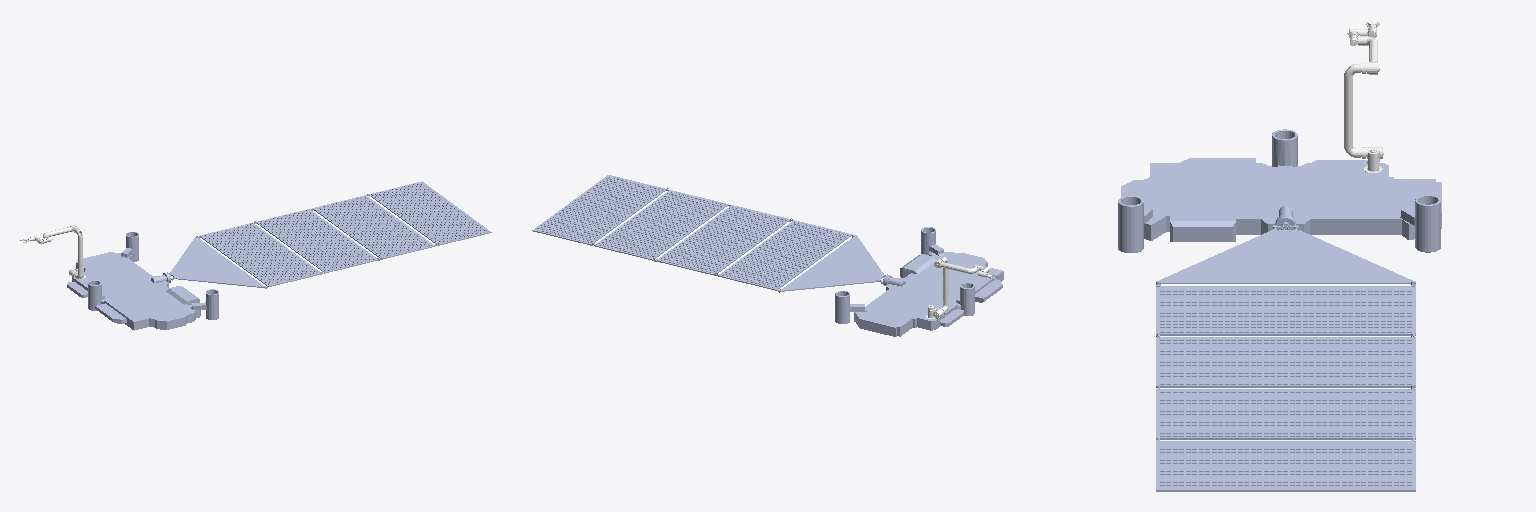
robot.urdf — starlink_combine_qf_space_manipulator:
<?xml version="1.0" ?>
<robot name="starlink_combine_qf_space_manipulator">
  <link name="starlink_base_star_link">
    <inertial>
      <origin xyz="0.064043 0.049818 0.075117" rpy="0 0 0"/>
      <mass value="365.27"/>
      <inertia ixx="166.05" ixy="0.9609" ixz="-0.9195" iyy="43.737" iyz="0.18316" izz="207.92"/>
    </inertial>
    <visual>
      <origin xyz="0 0 0" rpy="0 0 0"/>
      <geometry>
        <mesh filename="./meshes/base_star_link.STL"/>
      </geometry>
      <material name="">
        <color rgba="0.79216 0.81961 0.93333 1"/>
        <texture filename="./textures/1.png"/>
      </material>
    </visual>
    <collision>
      <origin xyz="0 0 0" rpy="0 0 0"/>
      <geometry>
        <mesh filename="./meshes/base_star_link.STL"/>
      </geometry>
    </collision>
  </link>
  <link name="starlink_panel_Link">
    <inertial>
      <origin xyz="0.18387 4.5116E-05 0.0089121" rpy="0 0 0"/>
      <mass value="146.07"/>
      <inertia ixx="45.09" ixy="7.5802E-12" ixz="-2.6455E-06" iyy="9.2979" iyz="-4.89E-13" izz="54.377"/>
    </inertial>
    <visual>
      <origin xyz="0 0 0" rpy="0 0 0"/>
      <geometry>
        <mesh filename="./meshes/panel_Link.STL"/>
      </geometry>
      <material name="">
        <color rgba="0.79216 0.81961 0.93333 1"/>
        <texture filename="./textures/5.png"/>
      </material>
    </visual>
    <collision>
      <origin xyz="0 0 0" rpy="0 0 0"/>
      <geometry>
        <mesh filename="./meshes/panel_Link.STL"/>
      </geometry>
    </collision>
  </link>
  <joint name="starlink_panel" type="fixed">
    <origin xyz="3.1501 0.12613 0.143" rpy="0 0 0"/>
    <parent link="starlink_base_star_link"/>
    <child link="starlink_panel_Link"/>
    <axis xyz="0 0 0"/>
  </joint>
  <link name="qf_space_manipulator_base_link">
    <inertial>
      <origin xyz="-8.3266726846887e-17 4.262048797221138e-08 0.05547449256466818" rpy="0 0 0"/>
      <mass value="1.8705992689783575"/>
      <inertia ixx="0.007467134758127188" ixy="3.962441480050754e-08" ixz="-3.9964728740718214e-18" iyy="0.007467356800846642" iyz="1.2124935629597831e-10" izz="0.008044522017158898"/>
    </inertial>
    <visual>
      <origin xyz="0 0 0" rpy="0 0 0"/>
      <geometry>
        <mesh filename="./meshes/base_link.STL" scale="0.6 0.6 0.6"/>
      </geometry>
      <material name="">
        <color rgba="1 1 1 1"/>
      </material>
    </visual>
    <collision>
      <origin xyz="0 0 0" rpy="0 0 0"/>
      <geometry>
        <mesh filename="./meshes/base_link.STL" scale="0.6 0.6 0.6"/>
      </geometry>
    </collision>
  </link>
  <link name="qf_space_manipulator_Shoulder_link_1">
    <inertial>
      <origin xyz="0.0001873877406636024 -0.0560957668949283 0.07324881240419939" rpy="0 0 0"/>
      <mass value="1.1984038207793077"/>
      <inertia ixx="0.004269767839534582" ixy="-0.0002707195846416558" ixz="5.4154184705179955e-06" iyy="0.0025747153069159284" iyz="4.405349010800451e-05" izz="0.0034248187446314707"/>
    </inertial>
    <visual>
      <origin xyz="0 0 0" rpy="0 0 0"/>
      <geometry>
        <mesh filename="./meshes/Shoulder_link_1.STL" scale="0.6 0.6 0.6"/>
      </geometry>
      <material name="">
        <color rgba="1 1 1 1"/>
      </material>
    </visual>
    <collision>
      <origin xyz="0 0 0" rpy="0 0 0"/>
      <geometry>
        <mesh filename="./meshes/Shoulder_link_1.STL" scale="0.6 0.6 0.6"/>
      </geometry>
    </collision>
  </link>
  <joint name="qf_space_manipulator_Shoulder_link_1_yaw" type="revolute">
    <origin xyz="0.0 0.0 0.138" rpy="0 0 0"/>
    <parent link="qf_space_manipulator_base_link"/>
    <child link="qf_space_manipulator_Shoulder_link_1"/>
    <axis xyz="0 0 -1"/>
    <limit lower="0" upper="0" effort="0" velocity="0"/>
  </joint>
  <link name="qf_space_manipulator_Upper_arm_Link_1">
    <inertial>
      <origin xyz="0.002441043273464352 0.2205905443133988 0.40773711417445796" rpy="0 0 0"/>
      <mass value="1.237014435999411"/>
      <inertia ixx="0.03894557489608943" ixy="-2.612050638302112e-07" ixz="-6.591223634505734e-07" iyy="0.03140206679365642" iyz="-0.015797715902448047" izz="0.010750455290075659"/>
    </inertial>
    <visual>
      <origin xyz="0 0 0" rpy="0 0 0"/>
      <geometry>
        <mesh filename="./meshes/Upper_arm_Link_1.STL" scale="0.6 0.6 0.6"/>
      </geometry>
      <material name="">
        <color rgba="1 1 1 1"/>
      </material>
    </visual>
    <collision>
      <origin xyz="0 0 0" rpy="0 0 0"/>
      <geometry>
        <mesh filename="./meshes/Upper_arm_Link_1.STL" scale="0.6 0.6 0.6"/>
      </geometry>
    </collision>
  </link>
  <joint name="qf_space_manipulator_Upper_arm_Link_1_roll" type="revolute">
    <origin xyz="0.0939119999999994 -0.1199999999999106 0.07800000000001318" rpy="0.49087385 0 0"/>
    <parent link="qf_space_manipulator_Shoulder_link_1"/>
    <child link="qf_space_manipulator_Upper_arm_Link_1"/>
    <axis xyz="1 0 0"/>
    <limit lower="0" upper="0" effort="0" velocity="0"/>
  </joint>
  <link name="qf_space_manipulator_Mid_arm_Link_1">
    <inertial>
      <origin xyz="-0.07202896226904959 -0.23462048075149497 0.20232934585705917" rpy="0 0 0"/>
      <mass value="4.394192754343932"/>
      <inertia ixx="0.1059897314774137" ixy="0.00843132043090879" ixz="-0.007270962772476756" iyy="0.05055564321673254" iyz="0.05098470471532277" izz="0.06570919240187209"/>
    </inertial>
    <visual>
      <origin xyz="0 0 0" rpy="0 0 0"/>
      <geometry>
        <mesh filename="./meshes/Mid_arm_Link_1.STL" scale="0.6 0.6 0.6"/>
      </geometry>
      <material name="">
        <color rgba="1 1 1 1"/>
      </material>
    </visual>
    <collision>
      <origin xyz="0 0 0" rpy="0 0 0"/>
      <geometry>
        <mesh filename="./meshes/Mid_arm_Link_1.STL" scale="0.6 0.6 0.6"/>
      </geometry>
    </collision>
  </link>
  <joint name="qf_space_manipulator_Mid_arm_Link_1_roll" type="revolute">
    <origin xyz="-0.0054119999999258095 0.3426103217692296 0.63325995246783" rpy="0.22089323 0 0"/>
    <parent link="qf_space_manipulator_Upper_arm_Link_1"/>
    <child link="qf_space_manipulator_Mid_arm_Link_1"/>
    <axis xyz="-1 0 0"/>
    <limit lower="0" upper="0" effort="0" velocity="0"/>
  </joint>
  <link name="qf_space_manipulator_Upper_wrist_Link_1">
    <inertial>
      <origin xyz="-0.015986247367529217 -0.0001364242591028742 0.01337195517729282" rpy="0 0 0"/>
      <mass value="0.30509485903504074"/>
      <inertia ixx="0.0003071178350390054" ixy="8.701728806499195e-08" ixz="1.7717534066814574e-07" iyy="0.0003080149872611991" iyz="5.971535332933144e-07" izz="0.0001548467555063545"/>
    </inertial>
    <visual>
      <origin xyz="0 0 0" rpy="0 0 0"/>
      <geometry>
        <mesh filename="./meshes/Upper_wrist_Link_1.STL" scale="0.6 0.6 0.6"/>
      </geometry>
      <material name="">
        <color rgba="1 1 1 1"/>
      </material>
    </visual>
    <collision>
      <origin xyz="0 0 0" rpy="0 0 0"/>
      <geometry>
        <mesh filename="./meshes/Upper_wrist_Link_1.STL" scale="0.6 0.6 0.6"/>
      </geometry>
    </collision>
  </link>
  <joint name="qf_space_manipulator_Upper_wrist_Link_1_yaw" type="revolute">
    <origin xyz="0.0645000000001698 -0.4422422903588208 0.38137472592349375" rpy="0.859166812179351 0 0"/>
    <parent link="qf_space_manipulator_Mid_arm_Link_1"/>
    <child link="qf_space_manipulator_Upper_wrist_Link_1"/>
    <axis xyz="0 0 1"/>
    <limit lower="0" upper="0" effort="0" velocity="0"/>
  </joint>
  <link name="qf_space_manipulator_Upper_wrist_Link_2">
    <inertial>
      <origin xyz="-0.01337195520990408 -0.015986247386804757 0.00013642433957543578" rpy="0 0 0"/>
      <mass value="0.3050948590124234"/>
      <inertia ixx="0.00015484671165087236" ixy="-1.7717465685183088e-07" ixz="5.971791414905609e-07" iyy="0.0003071178219615627" iyz="-8.701952476591415e-08" izz="0.0003080150148215764"/>
    </inertial>
    <visual>
      <origin xyz="0 0 0" rpy="0 0 0"/>
      <geometry>
        <mesh filename="./meshes/Upper_wrist_Link_2.STL" scale="0.6 0.6 0.6"/>
      </geometry>
      <material name="">
        <color rgba="1 1 1 1"/>
      </material>
    </visual>
    <collision>
      <origin xyz="0 0 0" rpy="0 0 0"/>
      <geometry>
        <mesh filename="./meshes/Upper_wrist_Link_2.STL" scale="0.6 0.6 0.6"/>
      </geometry>
    </collision>
  </link>
  <joint name="qf_space_manipulator_Upper_wrist_Link_2_roll" type="revolute">
    <origin xyz="-0.08760000000024659 0.0 0.058200000000027535" rpy="-1.5463902 0 0"/>
    <parent link="qf_space_manipulator_Upper_wrist_Link_1"/>
    <child link="qf_space_manipulator_Upper_wrist_Link_2"/>
    <axis xyz="1 0 0"/>
    <limit lower="0" upper="0" effort="0" velocity="0"/>
  </joint>
  <link name="qf_space_manipulator_2F-Body_Link">
    <inertial>
      <origin xyz="-7.3535263516388996e-06 0.013015999965250678 -5.89123300809291e-07" rpy="0 0 0"/>
      <mass value="0.08627345743213395"/>
      <inertia ixx="9.82059492816081e-05" ixy="-1.1571679385565587e-08" ixz="-6.268185855415613e-10" iyy="1.6259548230766846e-05" iyz="5.674971706835835e-09" izz="9.630320869146766e-05"/>
    </inertial>
    <visual>
      <origin xyz="0 0 0" rpy="0 0 0"/>
      <geometry>
        <mesh filename="./meshes/2F-Body_Link.STL" scale="0.6 0.6 0.6"/>
      </geometry>
      <material name="">
        <color rgba="1 1 1 1"/>
      </material>
    </visual>
    <collision>
      <origin xyz="0 0 0" rpy="0 0 0"/>
      <geometry>
        <mesh filename="./meshes/2F-Body_Link.STL" scale="0.6 0.6 0.6"/>
      </geometry>
    </collision>
  </link>
  <joint name="qf_space_manipulator_2F-Body_Link_pitch" type="revolute">
    <origin xyz="-0.05819999999999988 -0.1008 0.0" rpy="0 1.5708 0"/>
    <parent link="qf_space_manipulator_Upper_wrist_Link_2"/>
    <child link="qf_space_manipulator_2F-Body_Link"/>
    <axis xyz="0 -1 0"/>
    <limit lower="0" upper="0" effort="0" velocity="0"/>
  </joint>
  <link name="qf_space_manipulator_Finger1_2_Link">
    <inertial>
      <origin xyz="-0.002928886837678722 -0.02080036002662166 0.02237336915320068" rpy="0 0 0"/>
      <mass value="0.006898141202937839"/>
      <inertia ixx="1.563644237748095e-06" ixy="2.4774461286736103e-10" ixz="-5.030921466311523e-11" iyy="3.2988588902804284e-07" iyz="3.9291550189599943e-07" izz="1.5499063827923138e-06"/>
    </inertial>
    <visual>
      <origin xyz="0 0 0" rpy="0 0 0"/>
      <geometry>
        <mesh filename="./meshes/Finger1_2_Link.STL" scale="0.6 0.6 0.6"/>
      </geometry>
      <material name="">
        <color rgba="1 1 1 1"/>
      </material>
    </visual>
    <collision>
      <origin xyz="0 0 0" rpy="0 0 0"/>
      <geometry>
        <mesh filename="./meshes/Finger1_2_Link.STL" scale="0.6 0.6 0.6"/>
      </geometry>
    </collision>
  </link>
  <joint name="qf_space_manipulator_Finger1_2_Link_roll" type="revolute">
    <origin xyz="0.00282 -0.0327978 0.018360599999999998" rpy="0 0 0"/>
    <parent link="qf_space_manipulator_2F-Body_Link"/>
    <child link="qf_space_manipulator_Finger1_2_Link"/>
    <axis xyz="-1 0 0"/>
    <limit lower="0" upper="0" effort="0" velocity="0"/>
    <mimic joint="qf_space_manipulator_Finger3_2_Link_roll" multiplier="-1" offset="0"/>
  </joint>
  <link name="qf_space_manipulator_Finger3_2_Link">
    <inertial>
      <origin xyz="-0.006719990302461299 -0.02760730931189286 0.01604085321845838" rpy="0 0 0"/>
      <mass value="0.005448926166982977"/>
      <inertia ixx="1.3070381003854666e-06" ixy="1.7706249344666417e-12" ixz="-9.764829633015027e-13" iyy="5.277395506227525e-07" iyz="5.471138879516409e-07" izz="1.1542277528899326e-06"/>
    </inertial>
    <visual>
      <origin xyz="0 0 0" rpy="0 0 0"/>
      <geometry>
        <mesh filename="./meshes/Finger3_2_Link.STL" scale="0.6 0.6 0.6"/>
      </geometry>
      <material name="">
        <color rgba="1 1 1 1"/>
      </material>
    </visual>
    <collision>
      <origin xyz="0 0 0" rpy="0 0 0"/>
      <geometry>
        <mesh filename="./meshes/Finger3_2_Link.STL" scale="0.6 0.6 0.6"/>
      </geometry>
    </collision>
  </link>
  <joint name="qf_space_manipulator_Finger3_2_Link_roll" type="revolute">
    <origin xyz="0.006599999999999999 -0.0367068 0.007619999999999999" rpy="0 0 0"/>
    <parent link="qf_space_manipulator_2F-Body_Link"/>
    <child link="qf_space_manipulator_Finger3_2_Link"/>
    <axis xyz="1 0 0"/>
    <limit lower="0" upper="0" effort="0" velocity="0"/>
  </joint>
  <link name="qf_space_manipulator_Finger4_2_Link">
    <inertial>
      <origin xyz="-0.004860000011714543 0.001088861214170976 0.0050806473009610735" rpy="0 0 0"/>
      <mass value="0.001559431360890557"/>
      <inertia ixx="5.088652336904829e-08" ixy="-9.495334977451271e-17" ixz="-5.152565495562654e-14" iyy="5.037492533898669e-08" iyz="-1.19782087612523e-08" izz="3.276964262183369e-08"/>
    </inertial>
    <visual>
      <origin xyz="0 0 0" rpy="0 0 0"/>
      <geometry>
        <mesh filename="./meshes/Finger4_2_Link.STL" scale="0.6 0.6 0.6"/>
      </geometry>
      <material name="">
        <color rgba="1 1 1 1"/>
      </material>
    </visual>
    <collision>
      <origin xyz="0 0 0" rpy="0 0 0"/>
      <geometry>
        <mesh filename="./meshes/Finger4_2_Link.STL" scale="0.6 0.6 0.6"/>
      </geometry>
    </collision>
  </link>
  <joint name="qf_space_manipulator_Finger4_2_Link_roll" type="revolute">
    <origin xyz="-0.0018599999999999999 -0.051864 0.030168599999999997" rpy="0 0 0"/>
    <parent link="qf_space_manipulator_Finger3_2_Link"/>
    <child link="qf_space_manipulator_Finger4_2_Link"/>
    <axis xyz="1 0 0"/>
    <limit lower="0" upper="0" effort="0" velocity="0"/>
    <mimic joint="qf_space_manipulator_Finger3_2_Link_roll" multiplier="-1" offset="0"/>
  </joint>
  <link name="qf_space_manipulator_Finger3_1_Link">
    <inertial>
      <origin xyz="-0.006599990028364439 -0.02769782282108232 -0.015884050448455138" rpy="0 0 0"/>
      <mass value="0.005448925989361684"/>
      <inertia ixx="1.3070380048485743e-06" ixy="1.7428874498843821e-12" ixz="1.052335201981121e-12" iyy="5.236277583286537e-07" iyz="-5.447390830965181e-07" izz="1.158339441378255e-06"/>
    </inertial>
    <visual>
      <origin xyz="0 0 0" rpy="0 0 0"/>
      <geometry>
        <mesh filename="./meshes/Finger3_1_Link.STL" scale="0.6 0.6 0.6"/>
      </geometry>
      <material name="">
        <color rgba="1 1 1 1"/>
      </material>
    </visual>
    <collision>
      <origin xyz="0 0 0" rpy="0 0 0"/>
      <geometry>
        <mesh filename="./meshes/Finger3_1_Link.STL" scale="0.6 0.6 0.6"/>
      </geometry>
    </collision>
  </link>
  <joint name="qf_space_manipulator_Finger3_1_Link_roll" type="revolute">
    <origin xyz="0.006599999999999999 -0.0367068 -0.007619999999999999" rpy="0 0 0"/>
    <parent link="qf_space_manipulator_2F-Body_Link"/>
    <child link="qf_space_manipulator_Finger3_1_Link"/>
    <axis xyz="1 0 0"/>
    <limit lower="0" upper="0" effort="0" velocity="0"/>
    <mimic joint="qf_space_manipulator_Finger3_2_Link_roll" multiplier="-1" offset="0"/>
  </joint>
  <link name="qf_space_manipulator_Finger4_1_Link">
    <inertial>
      <origin xyz="-0.004859999988285402 0.001088861214171108 -0.005080647300960936" rpy="0 0 0"/>
      <mass value="0.0015594313608905915"/>
      <inertia ixx="5.088652336904923e-08" ixy="9.495309359783266e-17" ixz="-5.1525655127137653e-14" iyy="5.03749253389877e-08" iyz="1.1978208761252142e-08" izz="3.2769642621834614e-08"/>
    </inertial>
    <visual>
      <origin xyz="0 0 0" rpy="0 0 0"/>
      <geometry>
        <mesh filename="./meshes/Finger4_1_Link.STL" scale="0.6 0.6 0.6"/>
      </geometry>
      <material name="">
        <color rgba="1 1 1 1"/>
      </material>
    </visual>
    <collision>
      <origin xyz="0 0 0" rpy="0 0 0"/>
      <geometry>
        <mesh filename="./meshes/Finger4_1_Link.STL" scale="0.6 0.6 0.6"/>
      </geometry>
    </collision>
  </link>
  <joint name="qf_space_manipulator_Finger4_1_Link_roll" type="revolute">
    <origin xyz="-0.0017399999999999998 -0.0520632 -0.0298236" rpy="0 0 0"/>
    <parent link="qf_space_manipulator_Finger3_1_Link"/>
    <child link="qf_space_manipulator_Finger4_1_Link"/>
    <axis xyz="-1 0 0"/>
    <limit lower="0" upper="0" effort="0" velocity="0"/>
    <mimic joint="qf_space_manipulator_Finger3_2_Link_roll" multiplier="-1" offset="0"/>
  </joint>
  <link name="qf_space_manipulator_Finger1_1_Link">
    <inertial>
      <origin xyz="-0.0028183607988748857 -0.020948448828081362 -0.022234772691670318" rpy="0 0 0"/>
      <mass value="0.006898141207592574"/>
      <inertia ixx="1.5636442405946787e-06" ixy="-2.480731735994959e-10" ixz="-4.866317365612504e-11" iyy="3.247222855918312e-07" iyz="-3.847807525002366e-07" izz="1.5550699896759747e-06"/>
    </inertial>
    <visual>
      <origin xyz="0 0 0" rpy="0 0 0"/>
      <geometry>
        <mesh filename="./meshes/Finger1_1_Link.STL" scale="0.6 0.6 0.6"/>
      </geometry>
      <material name="">
        <color rgba="1 1 1 1"/>
      </material>
    </visual>
    <collision>
      <origin xyz="0 0 0" rpy="0 0 0"/>
      <geometry>
        <mesh filename="./meshes/Finger1_1_Link.STL" scale="0.6 0.6 0.6"/>
      </geometry>
    </collision>
  </link>
  <joint name="qf_space_manipulator_Finger1_1_Link_roll" type="revolute">
    <origin xyz="0.00282 -0.0327978 -0.018360599999999998" rpy="0 0 0"/>
    <parent link="qf_space_manipulator_2F-Body_Link"/>
    <child link="qf_space_manipulator_Finger1_1_Link"/>
    <axis xyz="-1 0 0"/>
    <limit lower="0" upper="0" effort="0" velocity="0"/>
    <mimic joint="qf_space_manipulator_Finger3_2_Link_roll" multiplier="1" offset="0"/>
  </joint>
  <joint name="starlink_qf_space_manipulator_connection_joint" type="fixed">
    <parent link="starlink_base_star_link"/>
    <child link="qf_space_manipulator_base_link"/>
    <origin xyz="-0.4 0.8 0" rpy="0 0 -1.574"/>
  </joint>
</robot>

--- Facts derived from the render (not from the file) ---
3 views of the same robot in one strip: view 1: azimuth 30°, elevation 25°; view 2: azimuth 150°, elevation 25°; view 3: azimuth 270°, elevation 25° (orthographic).
Robot: starlink_combine_qf_space_manipulator — 15 links, 14 joints (12 revolute, 2 fixed); root link starlink_base_star_link; default pose: every joint at zero.
Links seen in each view (by area): view 1: starlink_panel_Link, starlink_base_star_link; view 2: starlink_panel_Link, starlink_base_star_link; view 3: starlink_panel_Link, starlink_base_star_link, qf_space_manipulator_Upper_arm_Link_1, qf_space_manipulator_Mid_arm_Link_1.
Link boxes in pixels (left/top/right/bottom): starlink_panel_Link: left=169, top=181, right=491, bottom=288; starlink_base_star_link: left=67, top=232, right=218, bottom=330; starlink_panel_Link: left=532, top=175, right=884, bottom=292; starlink_base_star_link: left=835, top=227, right=1003, bottom=336; starlink_panel_Link: left=1156, top=222, right=1415, bottom=491; starlink_base_star_link: left=1118, top=129, right=1441, bottom=252; qf_space_manipulator_Upper_arm_Link_1: left=1344, top=63, right=1379, bottom=157; qf_space_manipulator_Mid_arm_Link_1: left=1349, top=33, right=1377, bottom=74.
Size in the robot's own frame: 6.87 by 2.49 by 1.03 metres.
15 mesh visuals loaded from 15 distinct referenced files (15 binary STL).